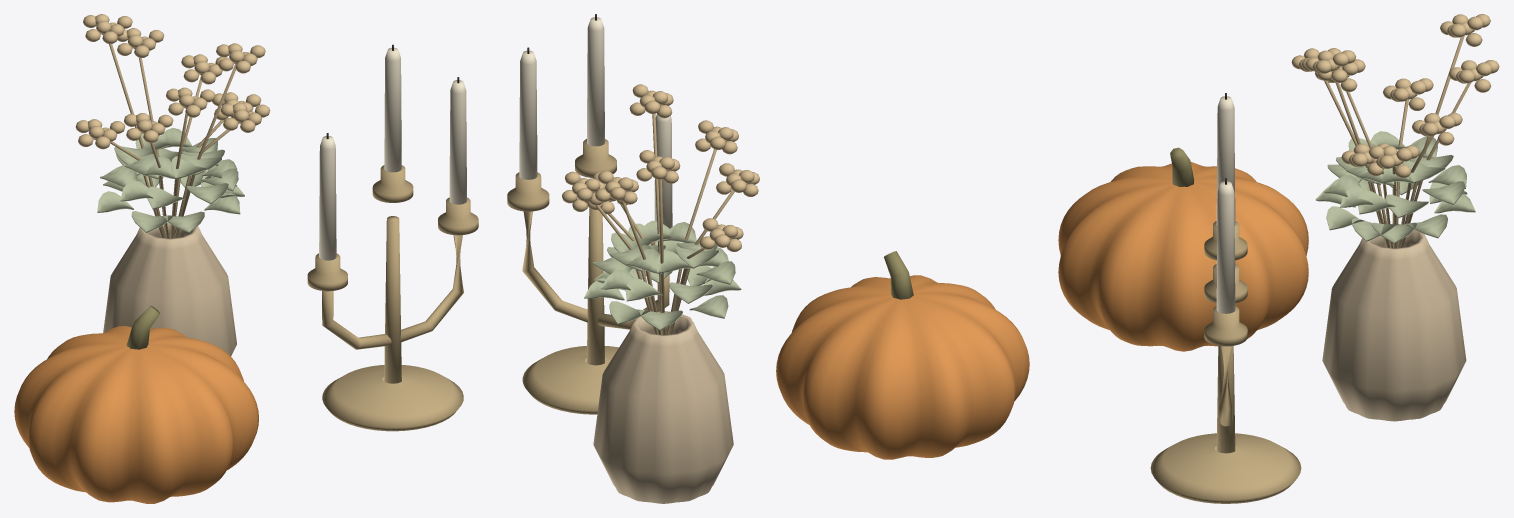
File: arr_autumn.glb
3 views of the same model, side by side, from view 1: azimuth 30°, elevation 25°; view 2: azimuth 150°, elevation 25°; view 3: azimuth 270°, elevation 25° (orthographic). The views are drawn at different scales.
Parts seen in each view (by area): view 1: arr_autumn__pumpkin_body, arr_autumn__candle_holder_body, arr_autumn__dried_bouquet_body, arr_autumn__dried_bouquet_flowers, arr_autumn__dried_bouquet_leaves, arr_autumn__candle_holder_wax, arr_autumn__dried_bouquet_stems, arr_autumn__pumpkin_stem; view 2: arr_autumn__pumpkin_body, arr_autumn__dried_bouquet_body, arr_autumn__candle_holder_body, arr_autumn__dried_bouquet_leaves, arr_autumn__dried_bouquet_flowers, arr_autumn__candle_holder_wax, arr_autumn__dried_bouquet_stems, arr_autumn__pumpkin_stem; view 3: arr_autumn__pumpkin_body, arr_autumn__dried_bouquet_body, arr_autumn__candle_holder_body, arr_autumn__dried_bouquet_leaves, arr_autumn__dried_bouquet_flowers, arr_autumn__candle_holder_wax, arr_autumn__dried_bouquet_stems, arr_autumn__pumpkin_stem.
Part boxes in pixels (left/top/right/bottom): arr_autumn__pumpkin_body: left=14, top=326, right=258, bottom=503; arr_autumn__candle_holder_body: left=307, top=165, right=478, bottom=431; arr_autumn__dried_bouquet_body: left=103, top=215, right=236, bottom=355; arr_autumn__dried_bouquet_flowers: left=75, top=14, right=270, bottom=149; arr_autumn__dried_bouquet_leaves: left=97, top=128, right=244, bottom=232; arr_autumn__candle_holder_wax: left=319, top=47, right=466, bottom=260; arr_autumn__dried_bouquet_stems: left=109, top=44, right=238, bottom=238; arr_autumn__pumpkin_stem: left=126, top=305, right=160, bottom=349; arr_autumn__pumpkin_body: left=776, top=275, right=1029, bottom=459; arr_autumn__dried_bouquet_body: left=593, top=311, right=733, bottom=503; arr_autumn__candle_holder_body: left=507, top=139, right=669, bottom=414; arr_autumn__dried_bouquet_leaves: left=584, top=220, right=741, bottom=330; arr_autumn__dried_bouquet_flowers: left=562, top=84, right=759, bottom=251; arr_autumn__candle_holder_wax: left=519, top=17, right=672, bottom=228; arr_autumn__dried_bouquet_stems: left=595, top=113, right=734, bottom=335; arr_autumn__pumpkin_stem: left=884, top=251, right=913, bottom=299; arr_autumn__pumpkin_body: left=1058, top=162, right=1308, bottom=351; arr_autumn__dried_bouquet_body: left=1322, top=223, right=1466, bottom=421; arr_autumn__candle_holder_body: left=1150, top=221, right=1301, bottom=503; arr_autumn__dried_bouquet_leaves: left=1315, top=131, right=1475, bottom=243; arr_autumn__dried_bouquet_flowers: left=1291, top=14, right=1499, bottom=178; arr_autumn__candle_holder_wax: left=1216, top=96, right=1235, bottom=313; arr_autumn__dried_bouquet_stems: left=1324, top=35, right=1471, bottom=248; arr_autumn__pumpkin_stem: left=1170, top=147, right=1194, bottom=186.
Bounding box in the file's own units: 0.6071 × 0.446 × 0.4684.
